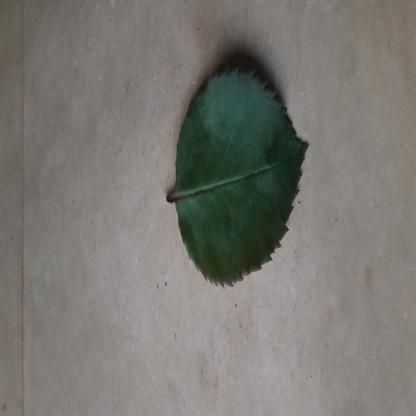normal: (172, 58, 310, 290)
